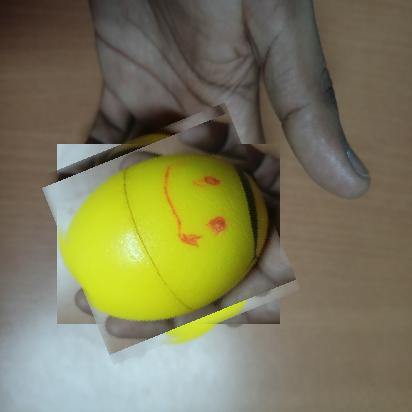Yellowball: (53, 118, 285, 350)
